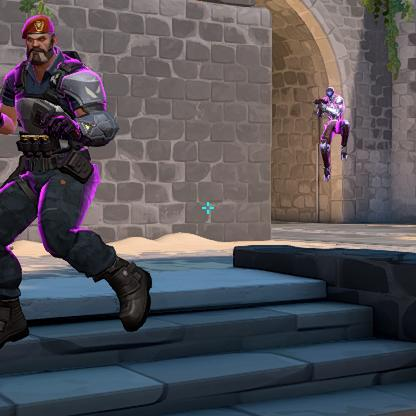enemyBody: (24, 76, 70, 157), (330, 102, 340, 123)
enemyHead: (29, 25, 53, 66), (328, 90, 333, 99)
